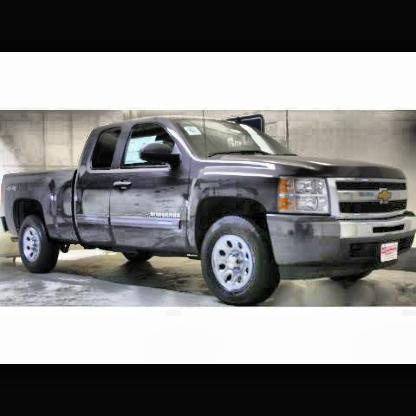Chevrolet Silverado 1500 Extended Cab 2012: (2, 119, 416, 326)
